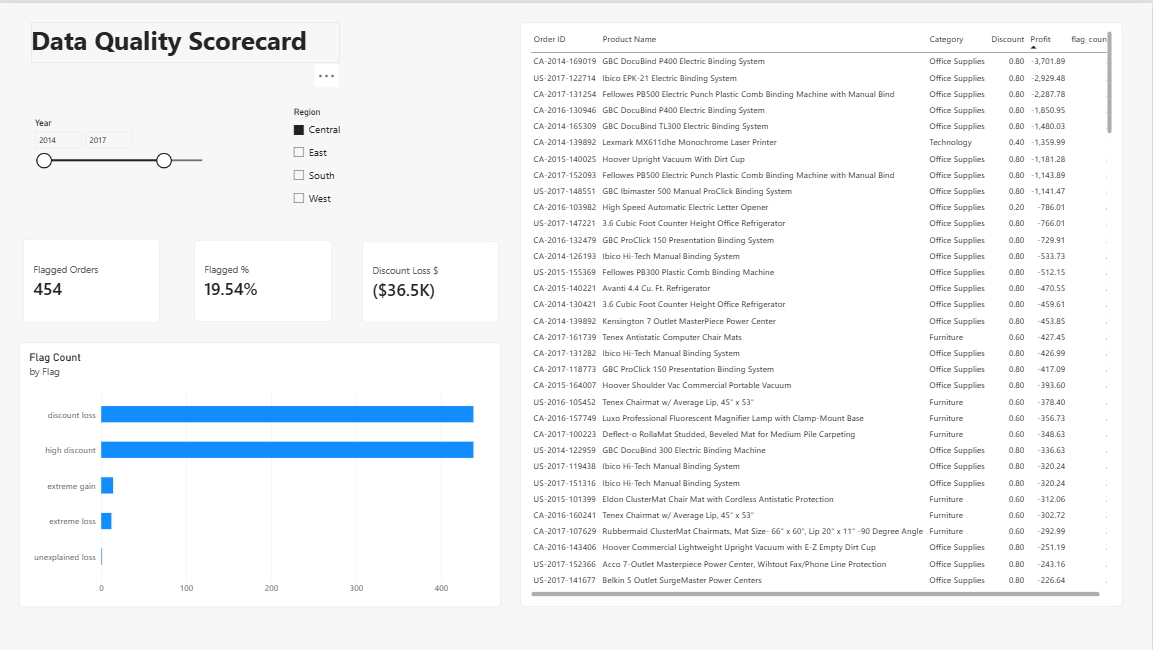

This screenshot's page, from the dashboard's own definition file:
{"tool":"powerbi","page":{"name":"Page 2","canvas":[1920,1080],"ordinal":1},"visuals":[{"type":"cardVisual","fields":{"Data":["superstore_flagged.Flagged Orders"]},"box":[39.1,393.3,228.8,141],"z":0},{"type":"cardVisual","fields":{"Data":["superstore_flagged.Flagged %"]},"box":[323.7,394.6,230.1,137],"z":1000},{"type":"cardVisual","fields":{"Data":["superstore_flagged.Discount Loss $"]},"box":[603,397.3,228.8,137],"z":2000},{"type":"clusteredBarChart","fields":{"Category":["Flags_long.Flag"],"Y":["Flags_long.Flag Count"]},"box":[31.5,565,803.3,441.6],"z":3000},{"type":"tableEx","fields":{"Values":["superstore_flagged.Order ID","superstore_flagged.Product Name","superstore_flagged.Category","superstore_flagged.Discount","superstore_flagged.Profit","superstore_flagged.flag_count"]},"box":[867.2,31.9,1004.2,974.9],"z":4000},{"type":"slicer","fields":{"Values":["superstore_flagged.Region"]},"box":[481.6,173.8,303.3,182.2],"z":4001},{"type":"slicer","fields":{"Values":["DateTable.Year"]},"box":[50.6,191.1,305.9,147.6],"z":4002},{"type":"textbox","box":[51.6,31.5,514.8,68.8],"z":4003}]}

Visuals, with their boxes in screenshot pixels (x1, y1, x2, y2), scaled from the page's 1920x1080 canvas onto the 1153x650 screenshot:
cardVisual - superstore_flagged.Flagged Orders: 23:237:161:322
cardVisual - superstore_flagged.Flagged %: 194:237:333:320
cardVisual - superstore_flagged.Discount Loss $: 362:239:500:322
clusteredBarChart - Flags_long.Flag x Flags_long.Flag Count: 19:340:501:606
tableEx - superstore_flagged.Order ID x superstore_flagged.Product Name: 521:19:1124:606
slicer - superstore_flagged.Region: 289:105:471:214
slicer - DateTable.Year: 30:115:214:204
textbox: 31:19:340:60
